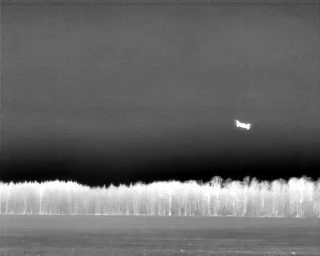DRONE: (230, 115, 255, 135)
